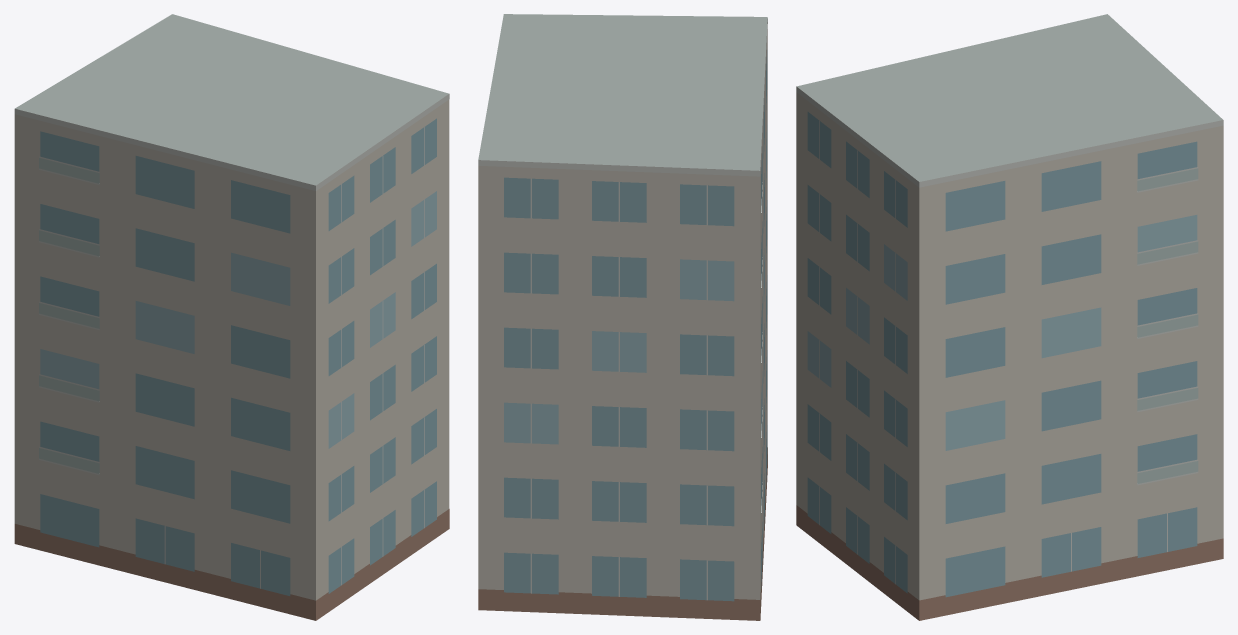
File: survey-upis-32973124.glb
The picture shows the model from 3 angles, left to right: view 1: azimuth 30°, elevation 25°; view 2: azimuth 150°, elevation 25°; view 3: azimuth 270°, elevation 25°; orthographic projection. The views are drawn at different scales.
Parts seen in each view (by area): view 1: survey-upis-32973124.tmp; view 2: survey-upis-32973124.tmp; view 3: survey-upis-32973124.tmp.
Part boxes in pixels (bbox=[...]): survey-upis-32973124.tmp: bbox=[14, 14, 449, 620]; survey-upis-32973124.tmp: bbox=[478, 14, 767, 620]; survey-upis-32973124.tmp: bbox=[796, 14, 1223, 620].
Bounding box in the file's own units: 15.61 × 19 × 16.77.
